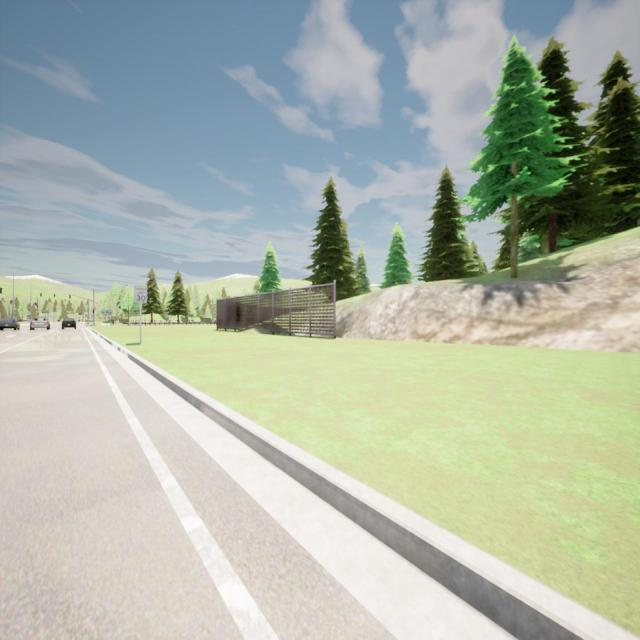Traffic_Signs: (135, 286, 147, 302), (102, 310, 112, 315)
Vehicle: (30, 316, 50, 330), (0, 319, 20, 330), (62, 318, 76, 330)
traffic_light: (40, 293, 42, 299), (69, 294, 71, 298), (54, 294, 55, 298), (93, 310, 94, 314)
